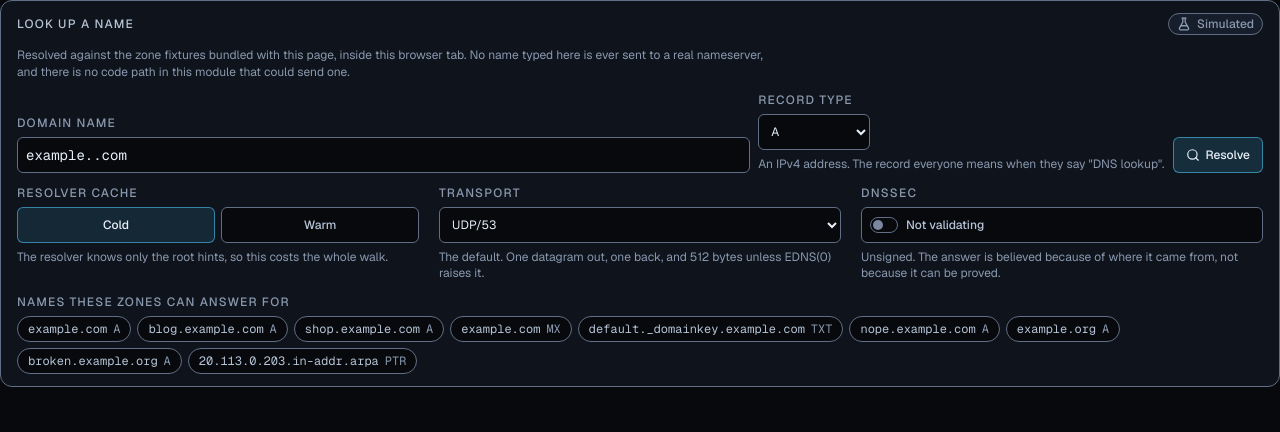
it: DomainInput › clears the error on the next keystroke
Click the button "Resolve" at (1218, 154), box [1172, 136, 1263, 172]
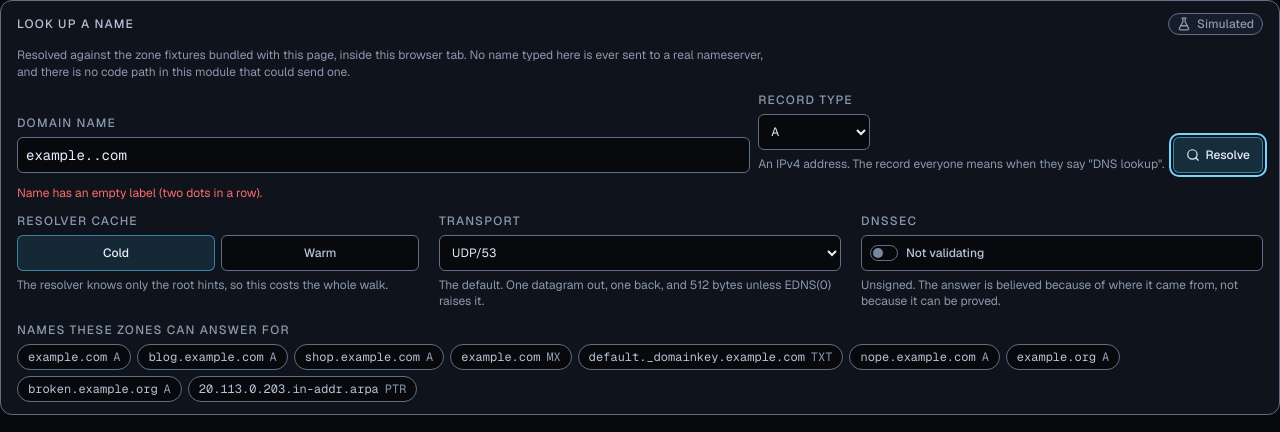
Check: the message "Name has an empty label (two dots in a row)." is shown, box [17, 184, 262, 200]
Type "x" into the field labelled "Domain name" at (384, 154), box [17, 136, 750, 172]
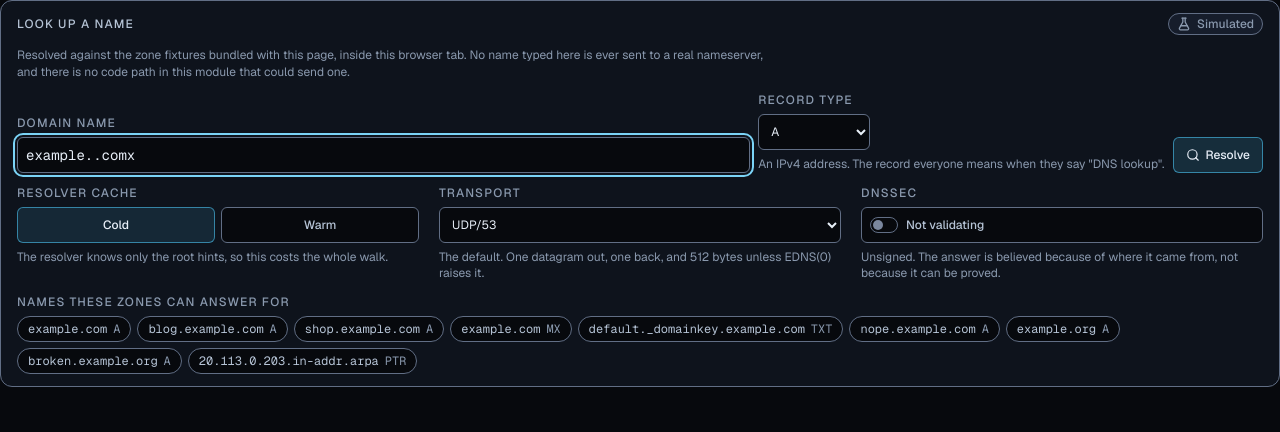
Check: the message "Name has an empty label (two dots in a row)." is gone
